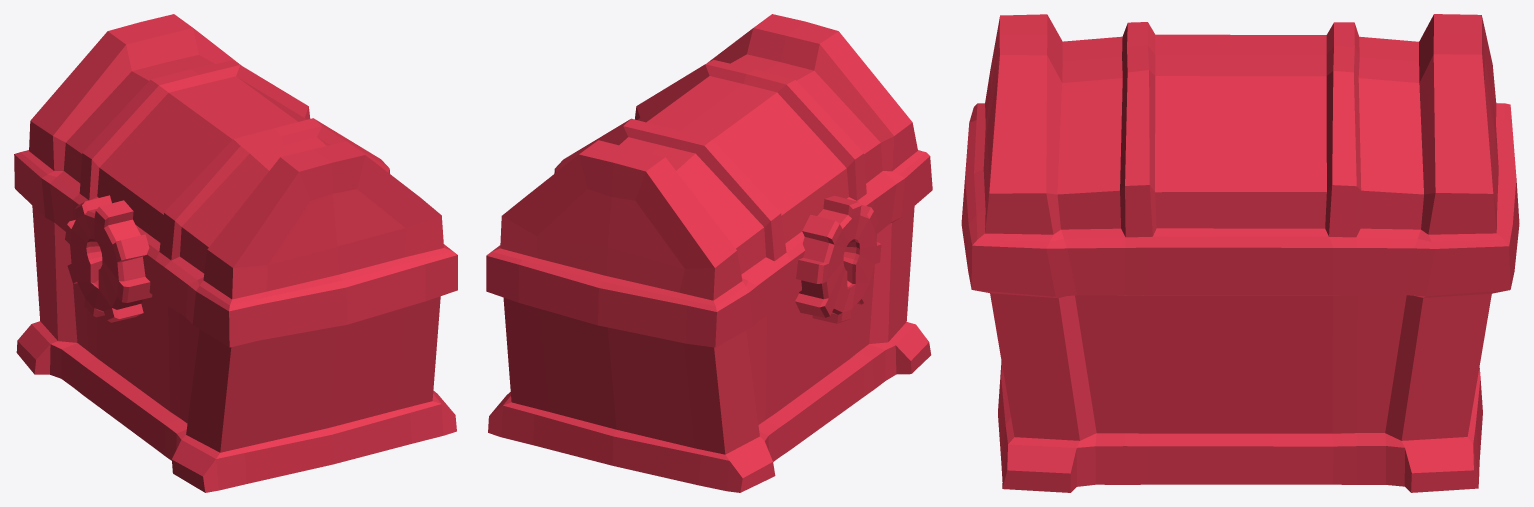
File: Chest_01_LP.fbx
3 renders of one model, left to right at view 1: azimuth 30°, elevation 25°; view 2: azimuth 150°, elevation 25°; view 3: azimuth 270°, elevation 25°, orthographic. The views are drawn at different scales.
Visible parts, largest first — view 1: CHEST_LP, gear_LP; view 2: CHEST_LP, gear_LP; view 3: CHEST_LP.
Part boxes in pixels (x1,y1,x2,y2): CHEST_LP: (14, 14, 457, 492); gear_LP: (65, 195, 152, 322); CHEST_LP: (486, 14, 932, 492); gear_LP: (795, 195, 881, 323); CHEST_LP: (961, 14, 1519, 492).
Bounding box in the file's own units: 48.79 × 50.99 × 67.81.
